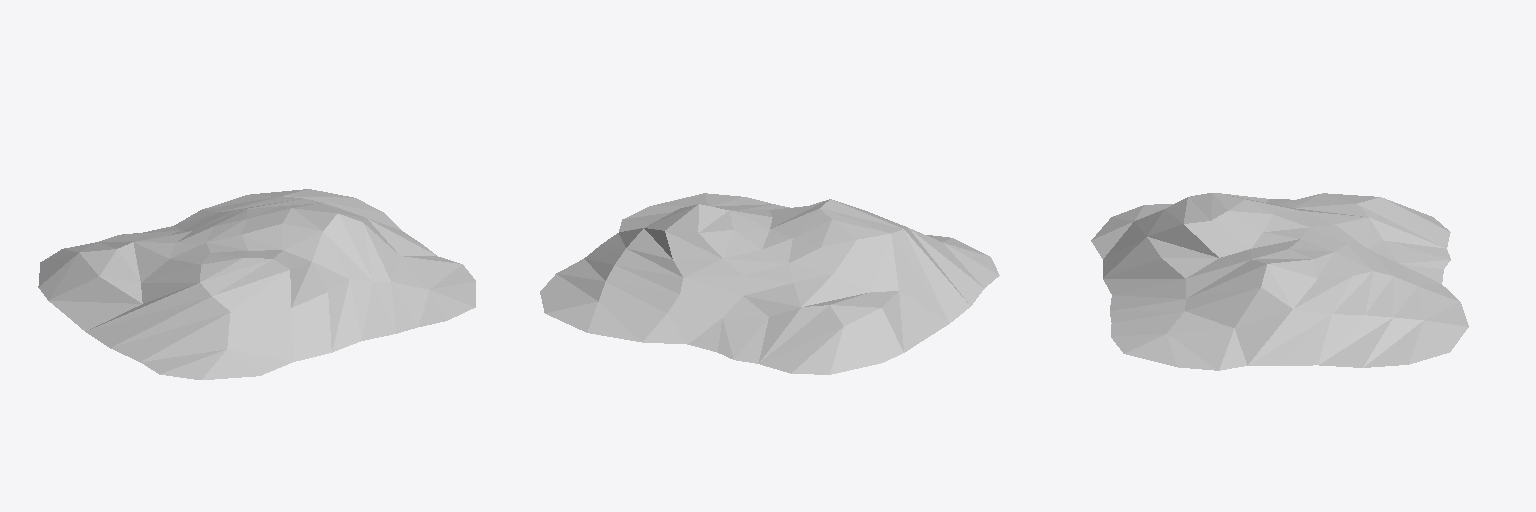
File: Landscape_Hill_1.obj
3 renders of one model, left to right at view 1: azimuth 30°, elevation 25°; view 2: azimuth 150°, elevation 25°; view 3: azimuth 270°, elevation 25°, orthographic.
Parts seen in each view (by area): view 1: Landscape_Hill_1; view 2: Landscape_Hill_1; view 3: Landscape_Hill_1.
Boxes of the visible parts, <box> form: Landscape_Hill_1: <box>38,189,475,379</box>; Landscape_Hill_1: <box>540,193,999,374</box>; Landscape_Hill_1: <box>1091,193,1468,370</box>.
Bounding box in the file's own units: 21.68 × 3.4 × 20.14.